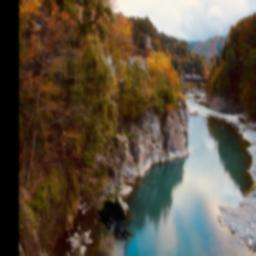Crow: (96, 179, 134, 244)
